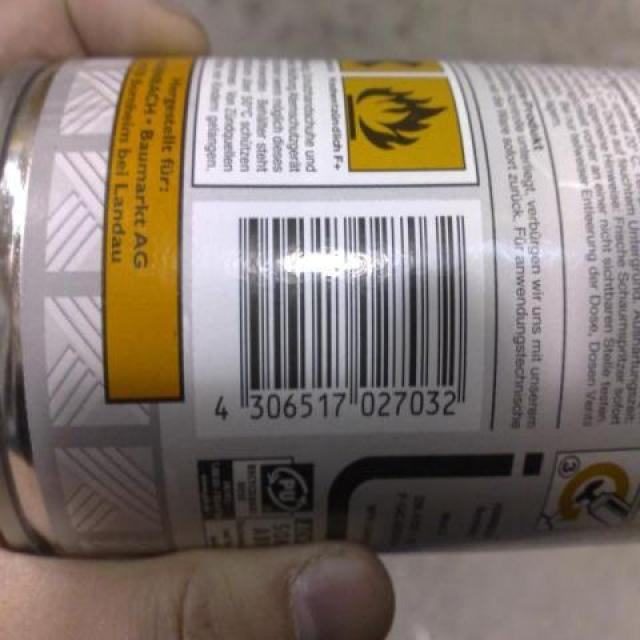Barcode: (194, 201, 485, 431)
